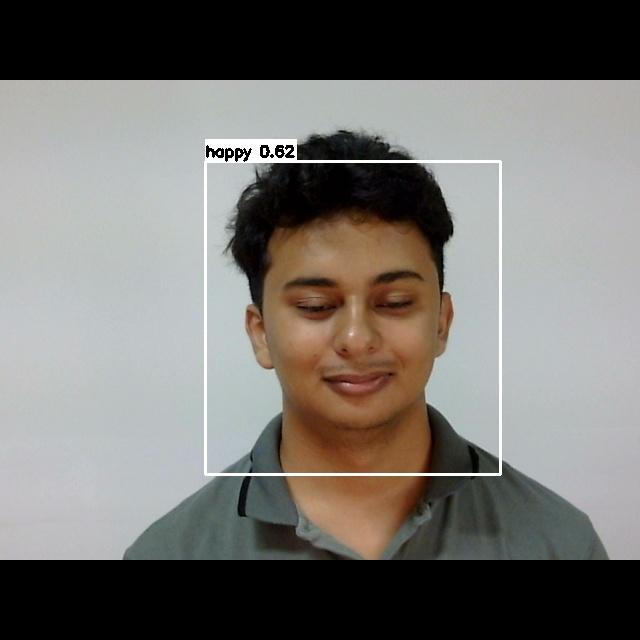Happy: (236, 241, 454, 410)
